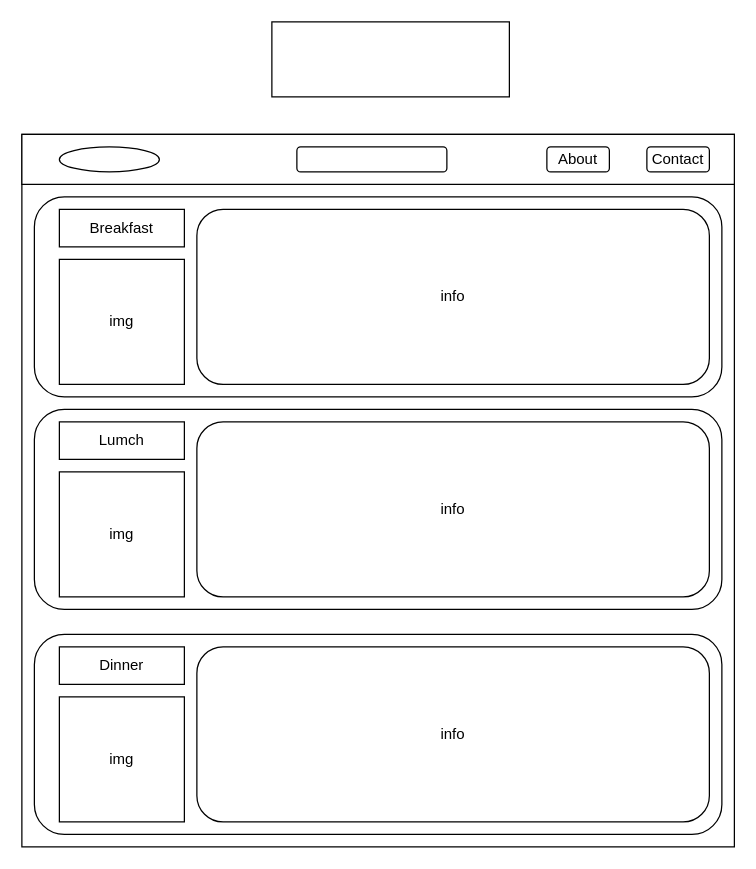
Image size: 756x869. Some labels were removed from this diagram. The shapes that lost their labels are listed below. From the top down, each one's centre as x and y in pixels, then its label:
(390,59): Landing page
(108,159): Logo
(371,159): Srach bar
